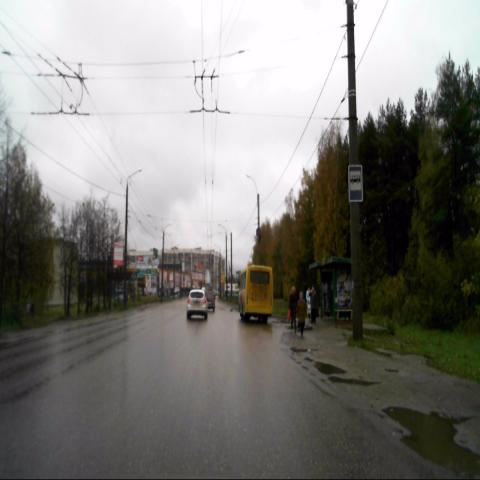5_16: (348, 163, 363, 204)
